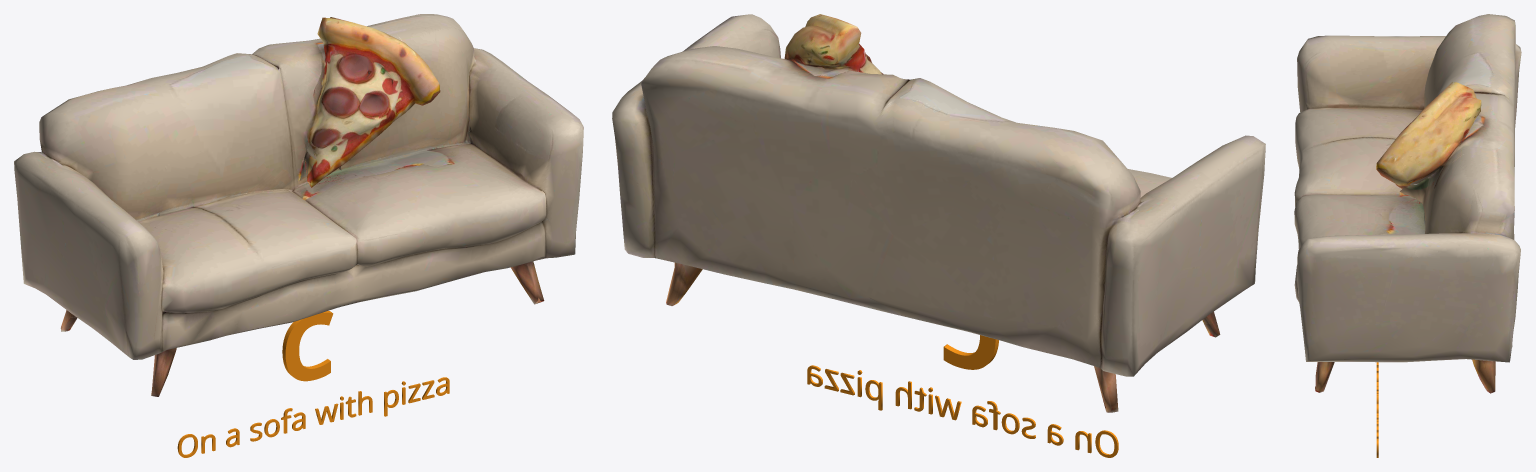
File: C_sofa.glb
The picture shows the model from 3 angles, left to right: view 1: azimuth 30°, elevation 25°; view 2: azimuth 150°, elevation 25°; view 3: azimuth 270°, elevation 25°; orthographic projection. The views are drawn at different scales.
Parts seen in each view (by area): view 1: C_sofa; view 2: C_sofa; view 3: C_sofa.
Boxes of the visible parts, x1,y1,x2,y2 form: C_sofa: (14,14,583,457); C_sofa: (612,14,1265,457); C_sofa: (1294,14,1521,457).
Size of the model in its own units: 1.22 by 0.9265 by 0.5504.
Materials: 2 (1 with a texture image).
